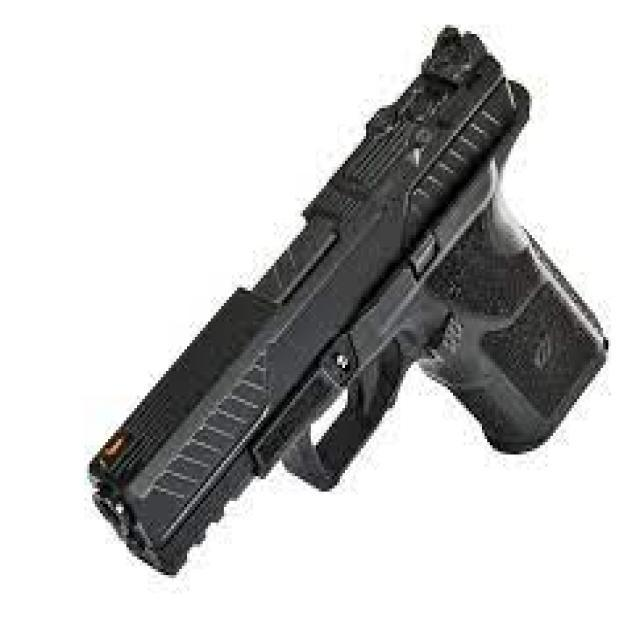semi automatic: (70, 14, 616, 587)
